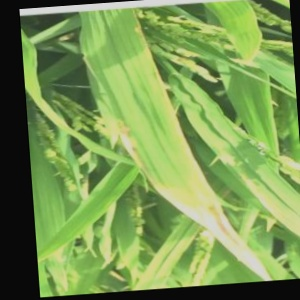Leaf_Blast: (120, 68, 185, 217)
